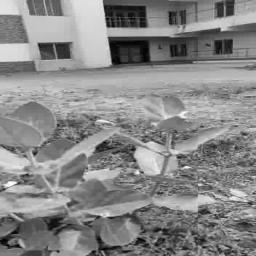Calotropis: (0, 97, 199, 251)
